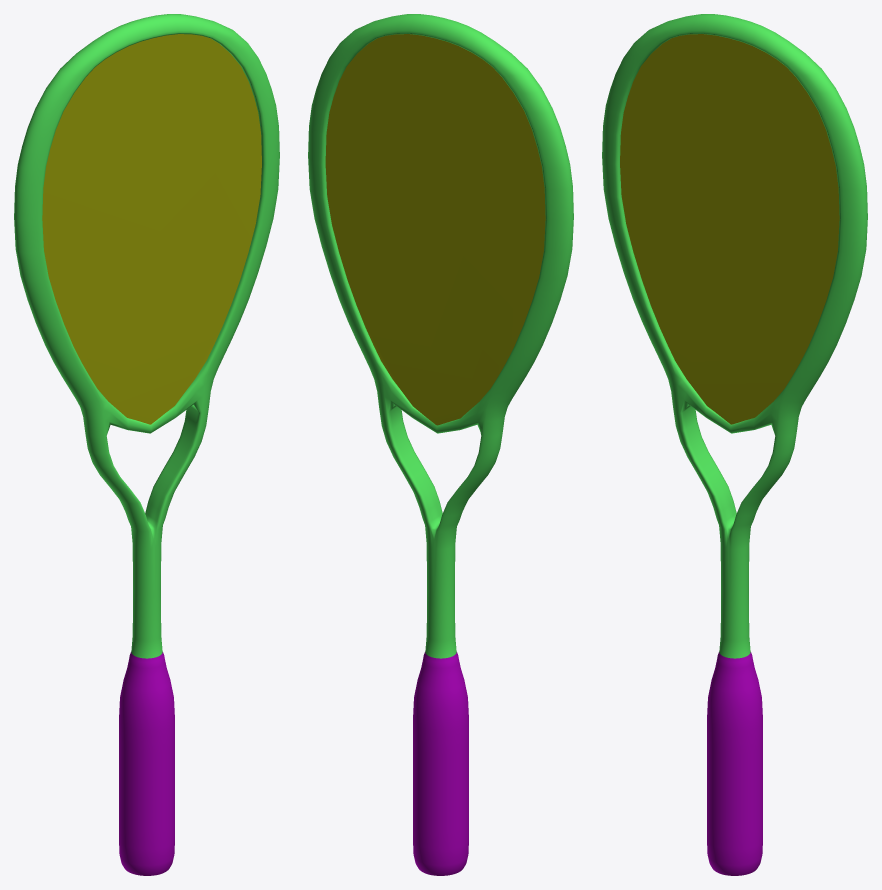
Rendered from SM_Racket_00.FBX.
3 views of the same model, side by side, from view 1: azimuth 30°, elevation 25°; view 2: azimuth 150°, elevation 25°; view 3: azimuth 330°, elevation 25° (orthographic).
Visible parts, largest first — view 1: Racket_00; view 2: Racket_00; view 3: Racket_00.
Boxes of the visible parts, x1,y1,x2,y2 form: Racket_00: [14, 14, 279, 875]; Racket_00: [308, 14, 573, 875]; Racket_00: [602, 14, 867, 875].
Bounding box in the file's own units: 32.21 × 5.95 × 98.89.
